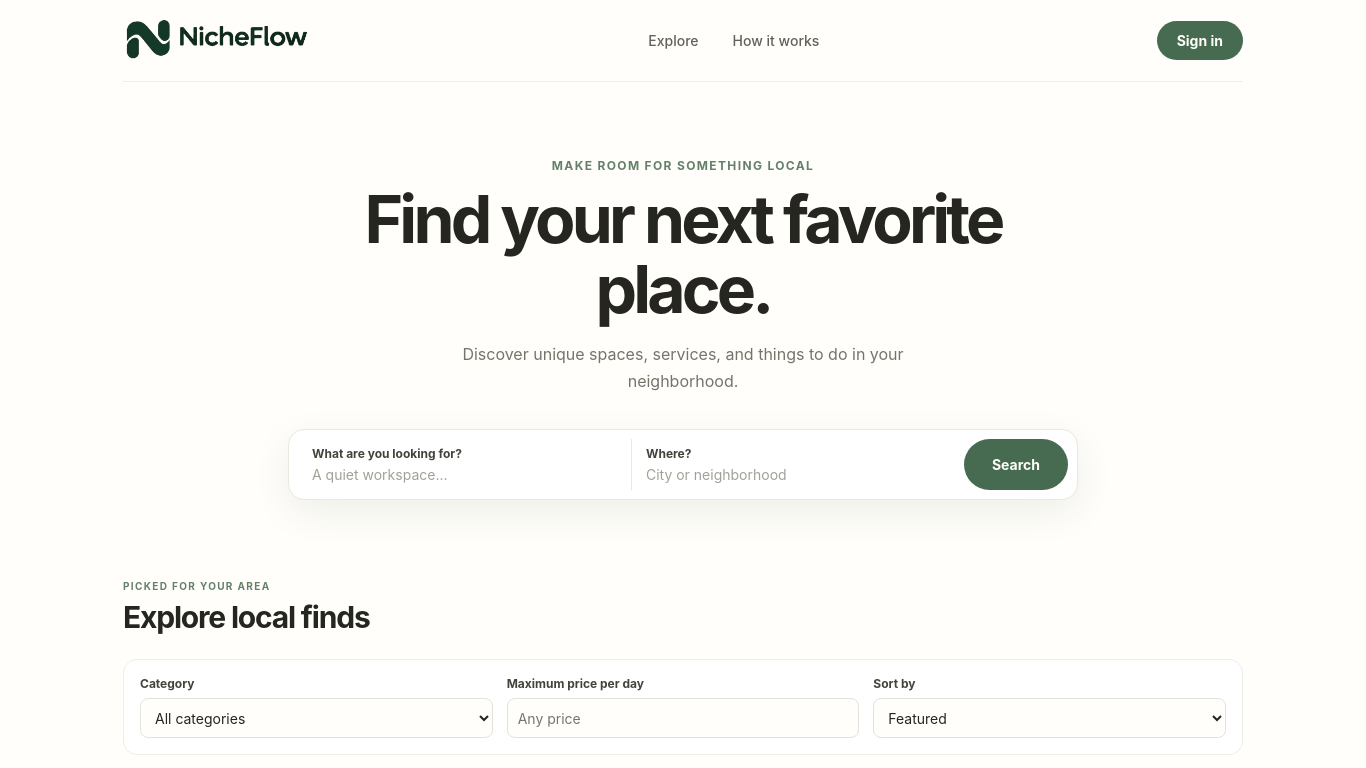
it: NicheFlow landing page › finds a listing that is on the second page of results
Step 1. Type "Test Listing 21" into the search field labelled "What are you looking for?" → coordinates (460, 475), box top-left (312, 466), bottom-right (609, 483)
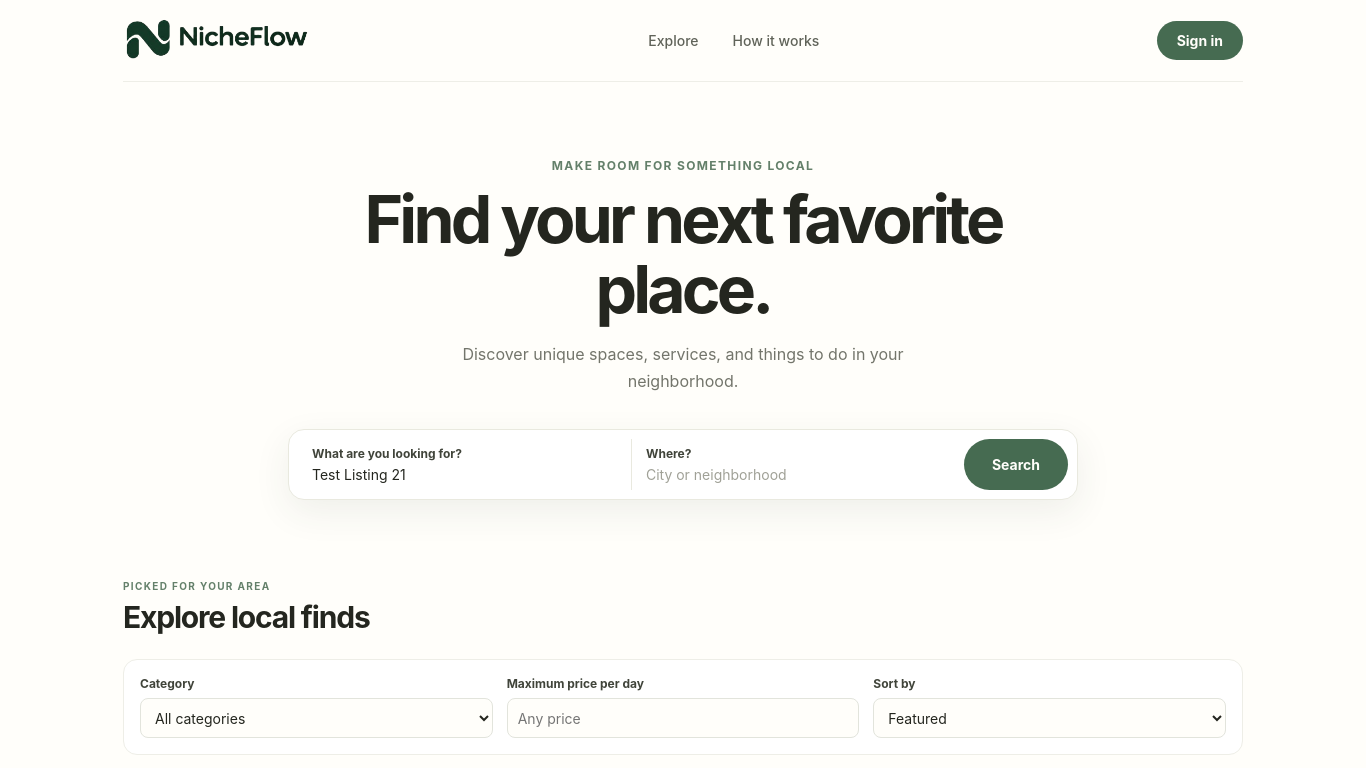
Step 2. Click the button "Search" → coordinates (1016, 465), box top-left (964, 439), bottom-right (1068, 490)
(page scrolled)
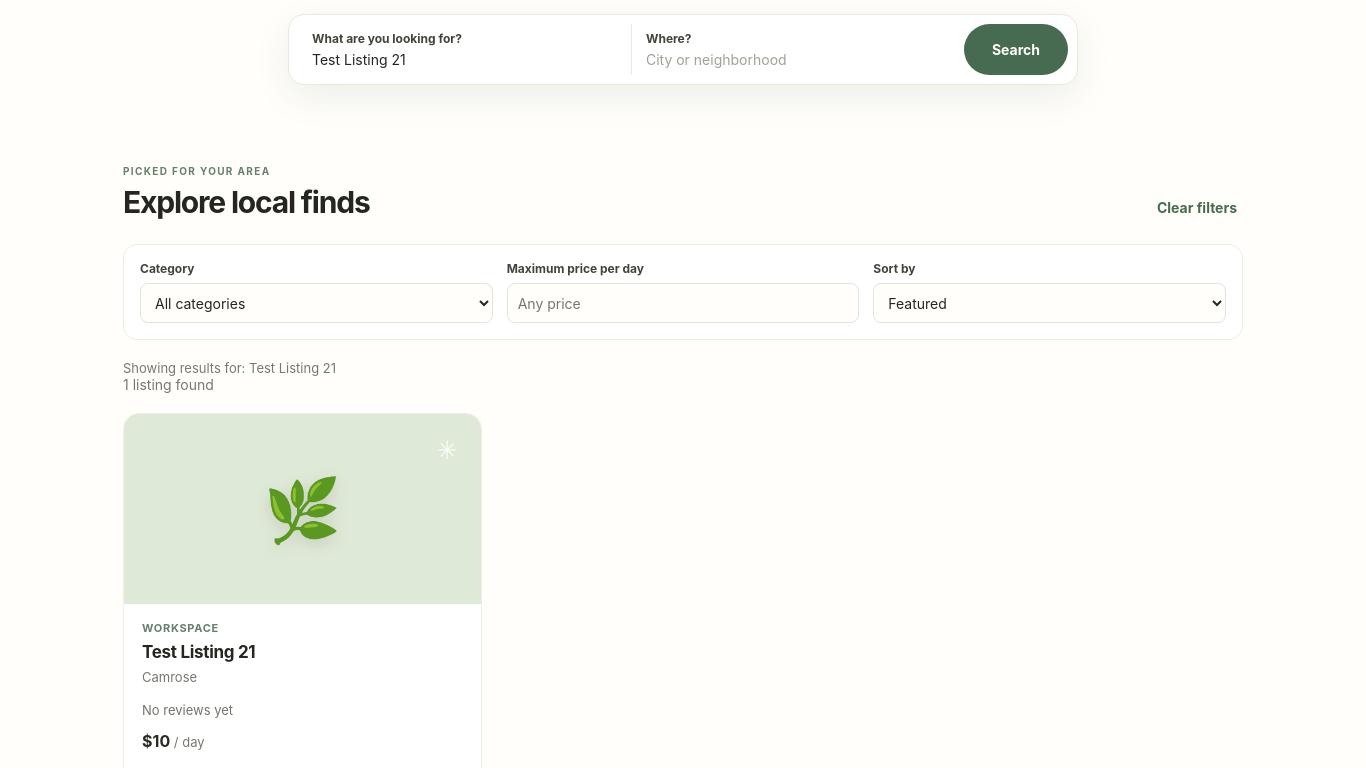
Check: the heading "Test Listing 21" is shown, box top-left (142, 642), bottom-right (255, 662)
Check: the text "1 listing found" is shown, box top-left (123, 376), bottom-right (214, 393)
